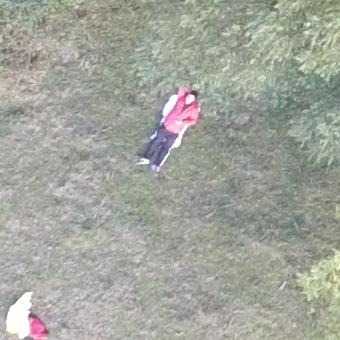human: (134, 82, 208, 170)
